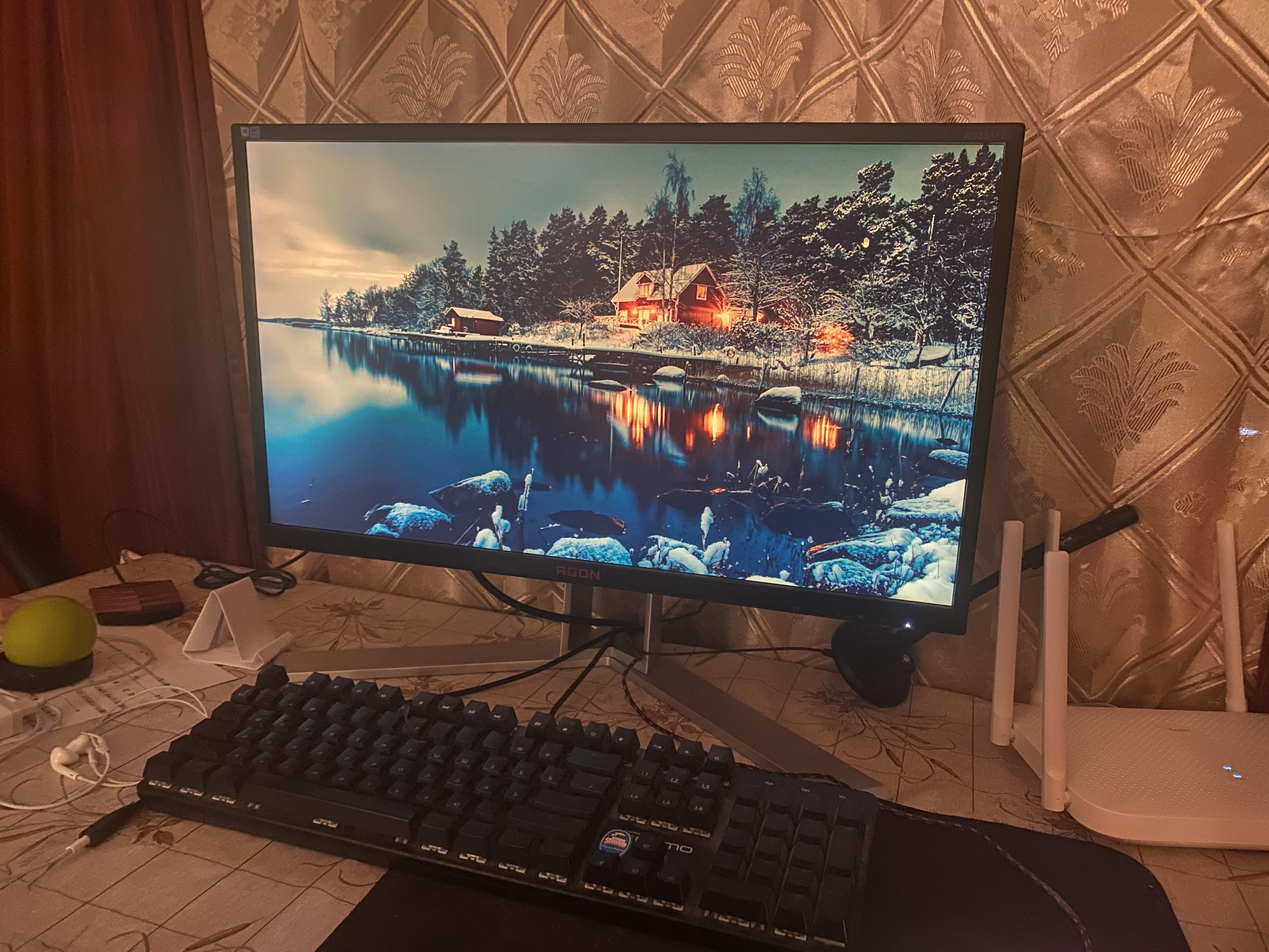monitor: (216, 110, 1034, 721)
